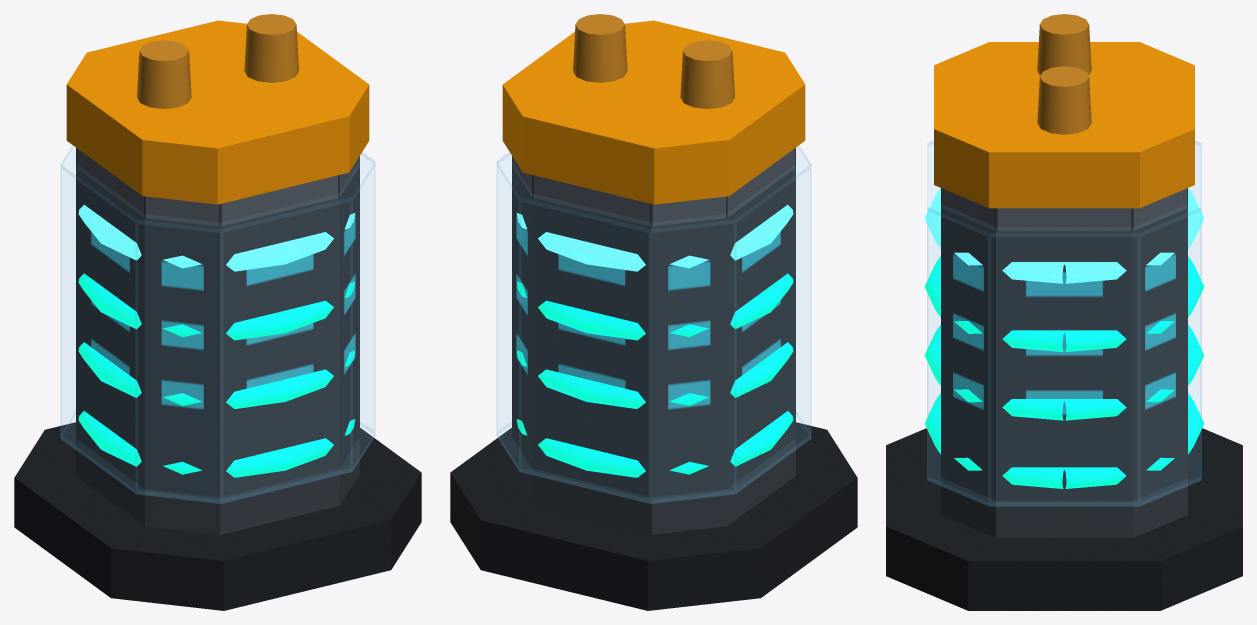
The model's file is prop_pickup_battery_charge.glb.
The picture shows the model from 3 angles, left to right: view 1: azimuth 30°, elevation 25°; view 2: azimuth 150°, elevation 25°; view 3: azimuth 270°, elevation 25°; orthographic projection.
Parts seen in each view (by area): view 1: BatteryCharge_Root; view 2: BatteryCharge_Root; view 3: BatteryCharge_Root.
Part boxes in pixels (<box>): BatteryCharge_Root: <box>14,14,421,610</box>; BatteryCharge_Root: <box>450,14,857,610</box>; BatteryCharge_Root: <box>886,14,1242,610</box>.
Bounding box in the file's own units: 0.26 × 0.39 × 0.26.
7 materials, 7 textured.
